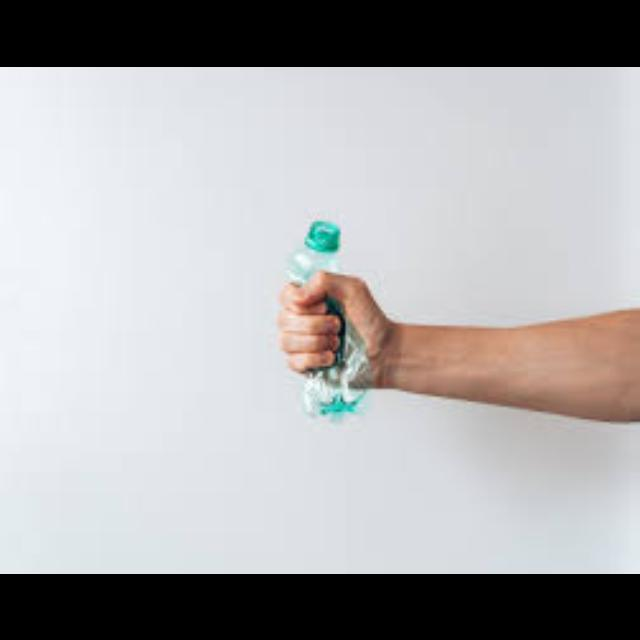trash: (268, 212, 388, 428)
